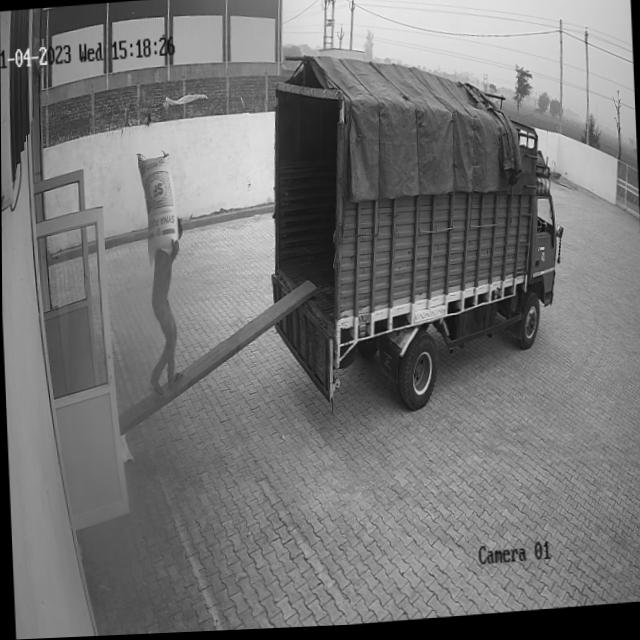sack: (136, 151, 179, 265)
